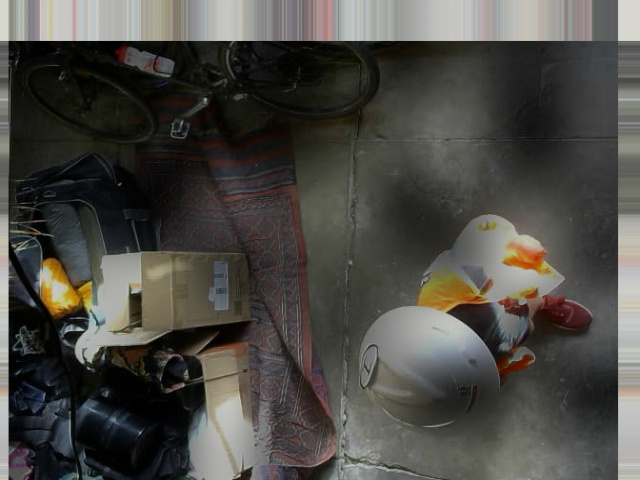one: (359, 342, 378, 386)
